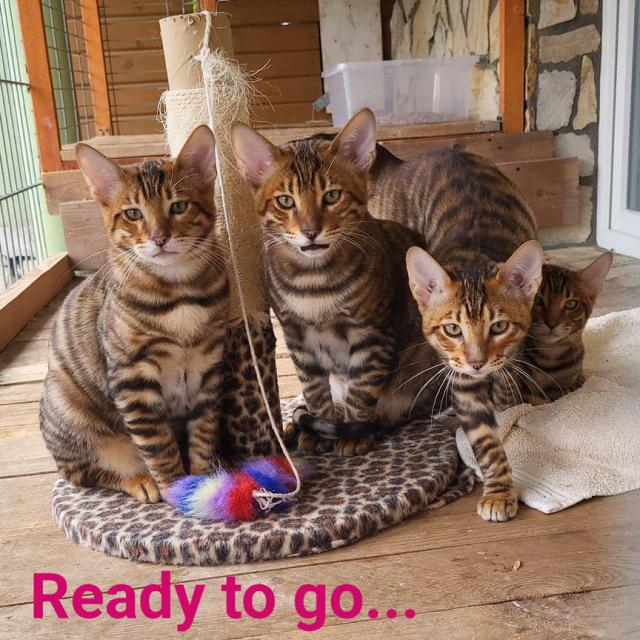Toyger: (36, 120, 235, 508), (228, 104, 426, 461), (371, 147, 548, 545), (523, 247, 616, 411)
